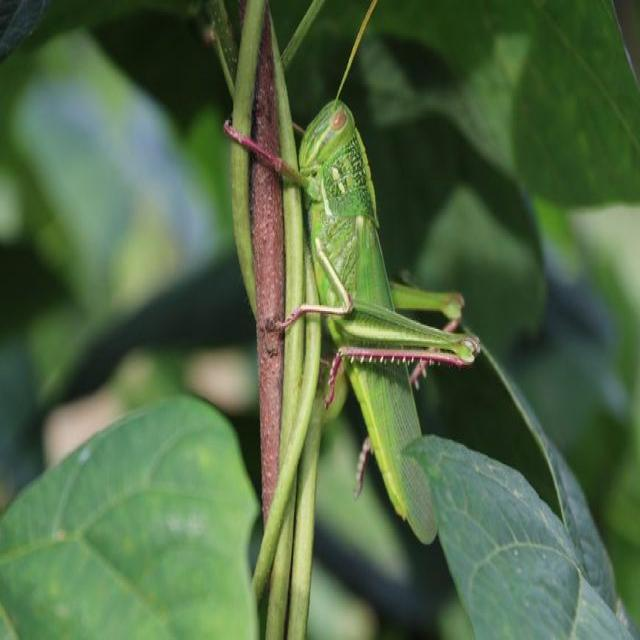ZhaMeng: (270, 75, 489, 545)
